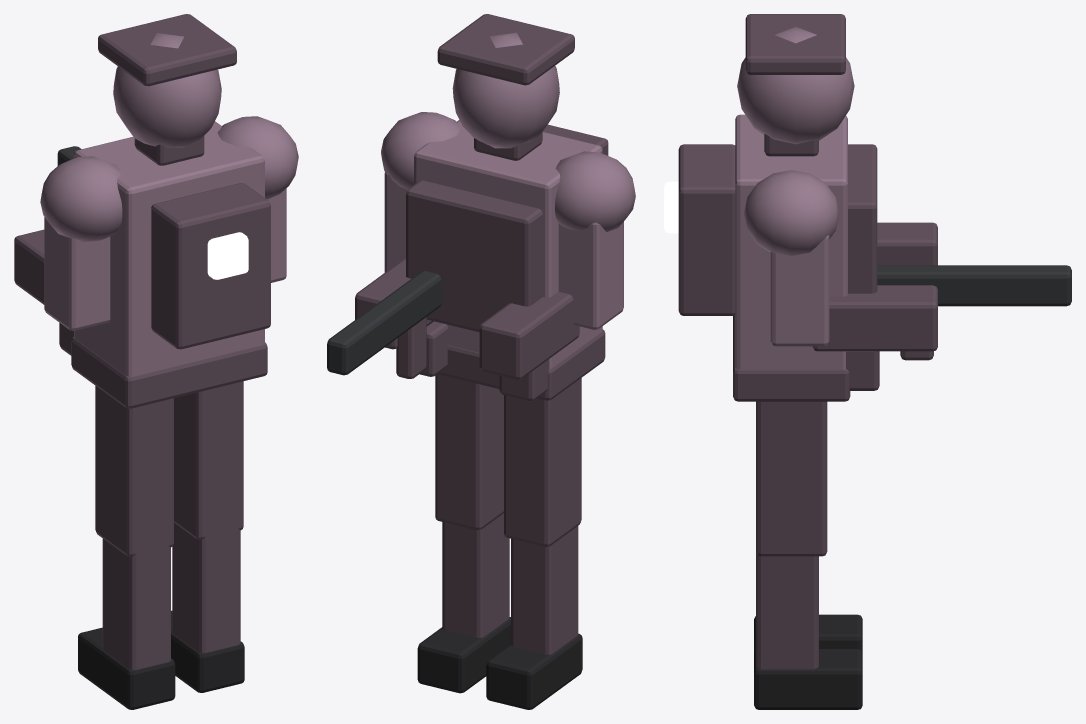
Rendered from char_sniper.glb.
3 views of the same model, side by side, from view 1: azimuth 30°, elevation 25°; view 2: azimuth 150°, elevation 25°; view 3: azimuth 270°, elevation 25° (orthographic). The views are drawn at different scales.
Visible parts, largest first — view 1: torso, pack, thigh, thigh.001, shin, shin.001, head, belt, cap, upper, shoulder, boot (+6 smaller); view 2: plate, thigh, torso, thigh.001, shin, shin.001, head, cap, fore, upper, gun, shoulder (+11 smaller); view 3: torso, thigh.001, pack, head, shin.001, fore.001, gun, shoulder.001, cap, upper.001, boot.001, plate (+6 smaller).
Part boxes in pixels (x1,y1,x2,y2): torso: (74,121,264,376); pack: (151,183,270,349); thigh: (95,386,173,556); thigh.001: (174,381,243,539); shin: (102,538,170,669); shin.001: (172,522,240,652); head: (113,33,221,147); belt: (71,337,267,408); cap: (98,14,236,86); upper: (44,217,110,330); shoulder: (40,156,122,242); boot: (78,627,175,709); plate: (406,180,542,332); thigh: (504,378,581,546); torso: (414,120,602,368); thigh.001: (435,374,503,530); shin: (511,526,578,654); shin.001: (442,513,509,637); head: (452,32,559,148); cap: (437,14,574,85); fore: (479,291,579,379); upper: (558,221,623,329); gun: (327,271,441,375); shoulder: (555,151,635,231); torso: (735,114,847,369); thigh.001: (756,401,827,556); pack: (678,144,735,315); head: (737,26,854,144); shin.001: (756,552,818,669); fore.001: (812,285,937,351); gun: (877,265,1071,306); shoulder.001: (744,170,839,255); cap: (745,14,845,74); upper.001: (770,235,829,346); boot.001: (754,649,862,709); plate: (848,144,877,293).
Bounding box in the file's own units: 0.6864 × 1.72 × 0.975.
